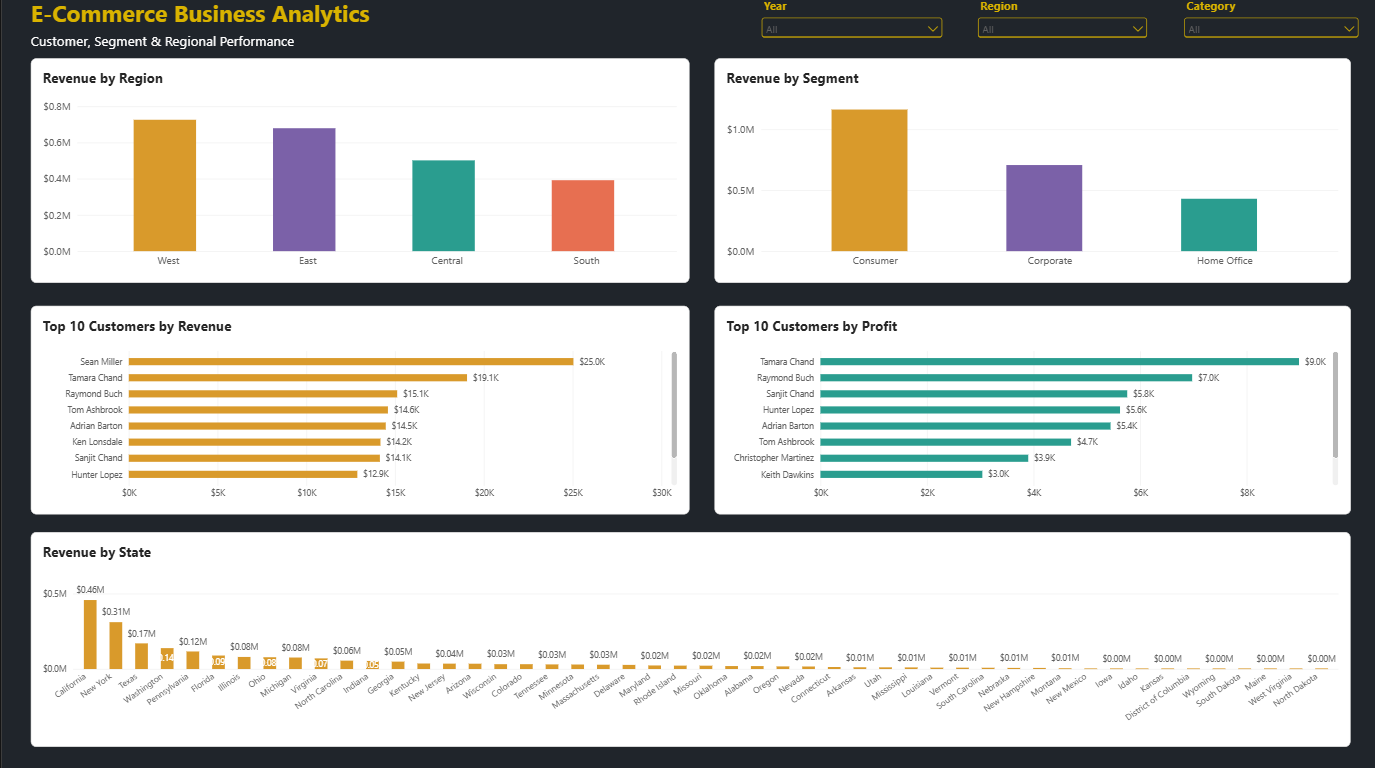

This screenshot's page, from the dashboard's own definition file:
{"tool":"powerbi","page":{"name":"Customer & Regional Analysis","canvas":[1920,1080],"ordinal":2},"visuals":[{"type":"clusteredColumnChart","title":"Revenue by Region","fields":{"Category":["Sales.Region"],"Y":["Sales.Total Revenue"]},"box":[40.1,85.5,919.2,314],"z":0},{"type":"clusteredColumnChart","title":"Revenue by Segment","fields":{"Category":["Sales.Segment"],"Y":["Sales.Total Revenue"]},"box":[994.2,85.5,887.8,314],"z":1000},{"type":"clusteredBarChart","title":"Top 10 Customers by Revenue","fields":{"Category":["Sales.Customer Name"],"Y":["Sales.Total Revenue"]},"box":[40.1,430.8,919.2,291.3],"z":2000},{"type":"clusteredBarChart","title":"Top 10 Customers by Profit","fields":{"Category":["Sales.Customer Name"],"Y":["Sales.Total Profit"]},"box":[994.2,430.8,887.8,291.3],"z":3000},{"type":"clusteredColumnChart","title":"Revenue by State","fields":{"Category":["Sales.State"],"Y":["Sales.Total Revenue"]},"box":[40.1,746.5,1841.9,300],"z":4000},{"type":"textbox","box":[40.1,0,514.5,48.8],"z":5000},{"type":"textbox","box":[40.1,48.8,514.5,36.6],"z":6000},{"type":"slicer","fields":{"Values":["Sales.Order Date.Variation.Date Hierarchy.Year"]},"box":[1055.2,0,261.6,76.7],"z":7000},{"type":"slicer","fields":{"Values":["Sales.Region"]},"box":[1357.9,0,245.9,76.7],"z":8000},{"type":"slicer","fields":{"Values":["Sales.Category"]},"box":[1644.8,0,252.9,76.7],"z":9000}]}

Visuals, with their boxes in screenshot pixels (x1, y1, x2, y2), scaled from the page's 1920x1080 canvas onto the 1375x768 screenshot:
"Revenue by Region" clusteredColumnChart: detection(29, 61, 687, 284)
"Revenue by Segment" clusteredColumnChart: detection(712, 61, 1348, 284)
"Top 10 Customers by Revenue" clusteredBarChart: detection(29, 306, 687, 513)
"Top 10 Customers by Profit" clusteredBarChart: detection(712, 306, 1348, 513)
"Revenue by State" clusteredColumnChart: detection(29, 531, 1348, 744)
textbox: detection(29, 0, 397, 35)
textbox: detection(29, 35, 397, 61)
slicer - Sales.Order Date.Variation.Date Hierarchy.Year: detection(756, 0, 943, 55)
slicer - Sales.Region: detection(972, 0, 1149, 55)
slicer - Sales.Category: detection(1178, 0, 1359, 55)
